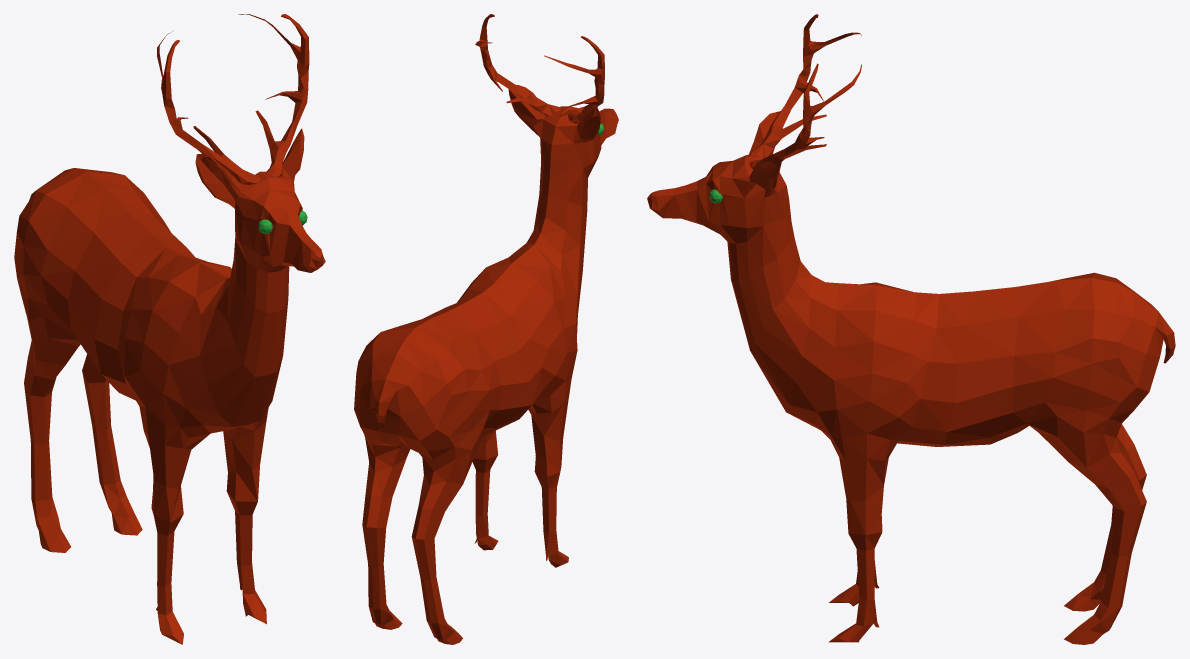
The model's file is deer.obj.
3 views of the same model, side by side, from view 1: azimuth 30°, elevation 25°; view 2: azimuth 150°, elevation 25°; view 3: azimuth 270°, elevation 25° (orthographic). The views are drawn at different scales.
Parts seen in each view (by area): view 1: deer_1; view 2: deer_1; view 3: deer_1.
Boxes of the visible parts, <box> form: deer_1: <box>14,14,325,644</box>; deer_1: <box>354,14,618,644</box>; deer_1: <box>647,14,1175,644</box>.
Size of the model in its own units: 10.14 by 40.95 by 33.63.
